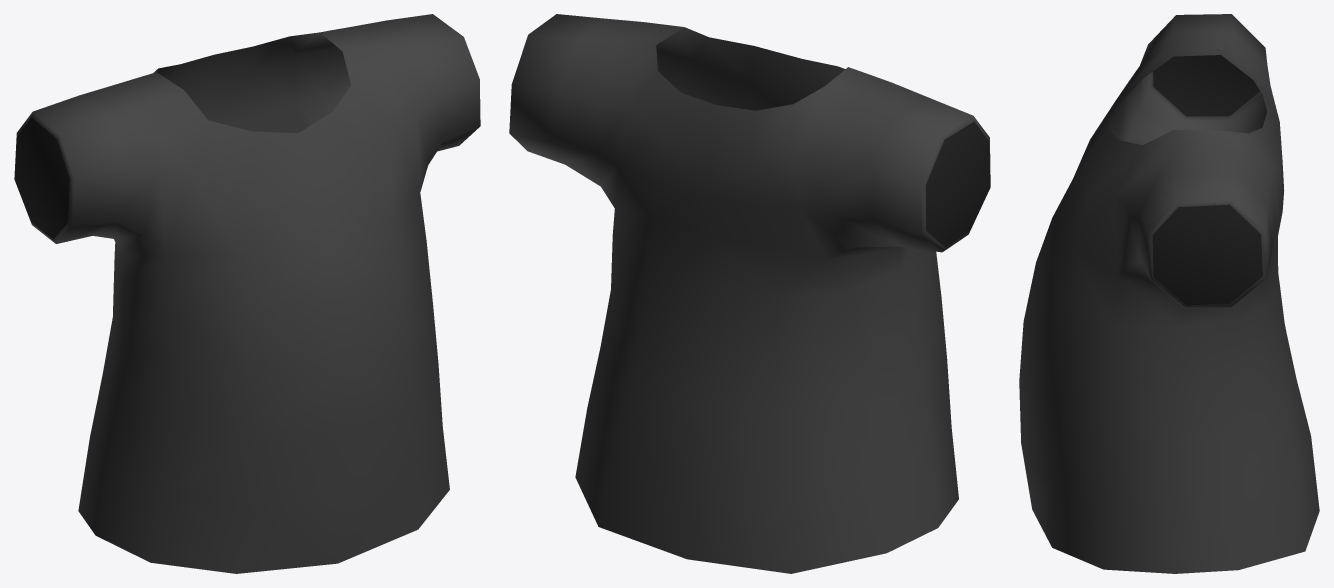
Rendered from Outerwear_Black_013.glb.
The picture shows the model from 3 angles, left to right: view 1: azimuth 30°, elevation 25°; view 2: azimuth 150°, elevation 25°; view 3: azimuth 270°, elevation 25°; orthographic projection. The views are drawn at different scales.
Parts seen in each view (by area): view 1: Outerwear_Black_013; view 2: Outerwear_Black_013; view 3: Outerwear_Black_013.
Part boxes in pixels (x1,y1,x2,y2): Outerwear_Black_013: (14, 14, 480, 573); Outerwear_Black_013: (509, 14, 990, 573); Outerwear_Black_013: (1019, 14, 1319, 573).
Size of the model in its own units: 0.609 by 0.6218 by 0.4048.
Materials: 1 (1 with a texture image).
